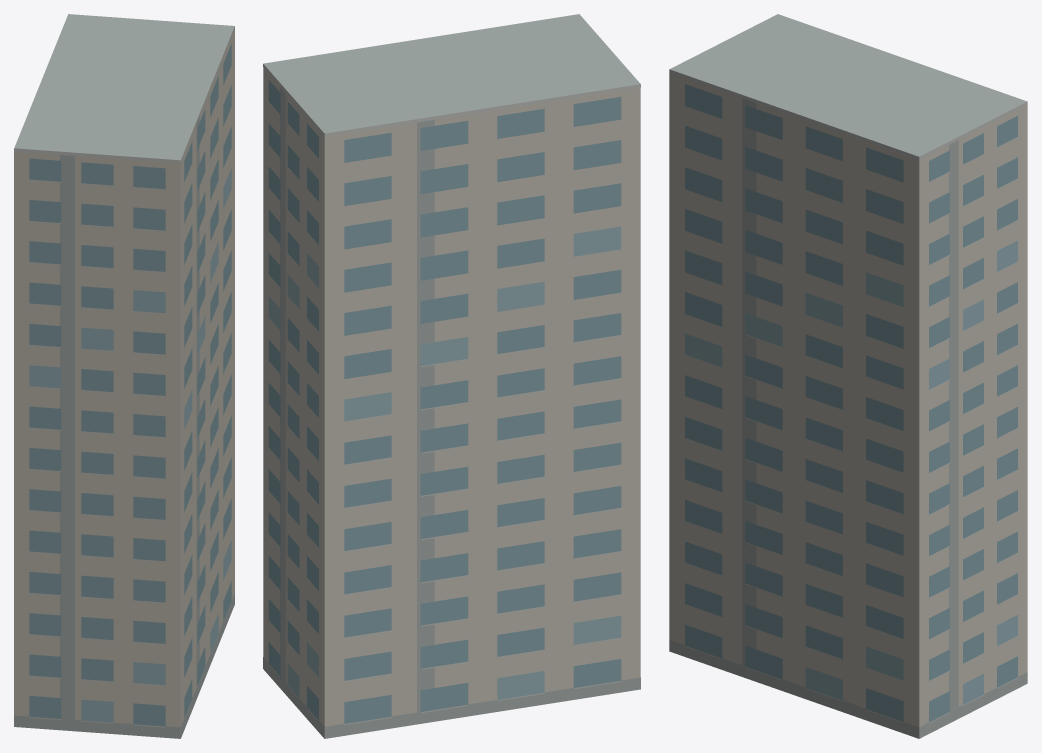
Rendered from residential-9d3dd479-3a4f-4199-a7a5-2b92d57d4867.glb.
3 views of the same model, side by side, from view 1: azimuth 30°, elevation 25°; view 2: azimuth 150°, elevation 25°; view 3: azimuth 270°, elevation 25° (orthographic). The views are drawn at different scales.
Visible parts, largest first — view 1: residential-9d3dd479-3a4f-4199-a7a5-2b92d57d4867.tmp; view 2: residential-9d3dd479-3a4f-4199-a7a5-2b92d57d4867.tmp; view 3: residential-9d3dd479-3a4f-4199-a7a5-2b92d57d4867.tmp.
Part boxes in pixels (x1,y1,x2,y2): residential-9d3dd479-3a4f-4199-a7a5-2b92d57d4867.tmp: (14,14,234,738); residential-9d3dd479-3a4f-4199-a7a5-2b92d57d4867.tmp: (263,14,640,738); residential-9d3dd479-3a4f-4199-a7a5-2b92d57d4867.tmp: (669,14,1027,738).
Bounding box in the file's own units: 22.63 × 43 × 23.99.
